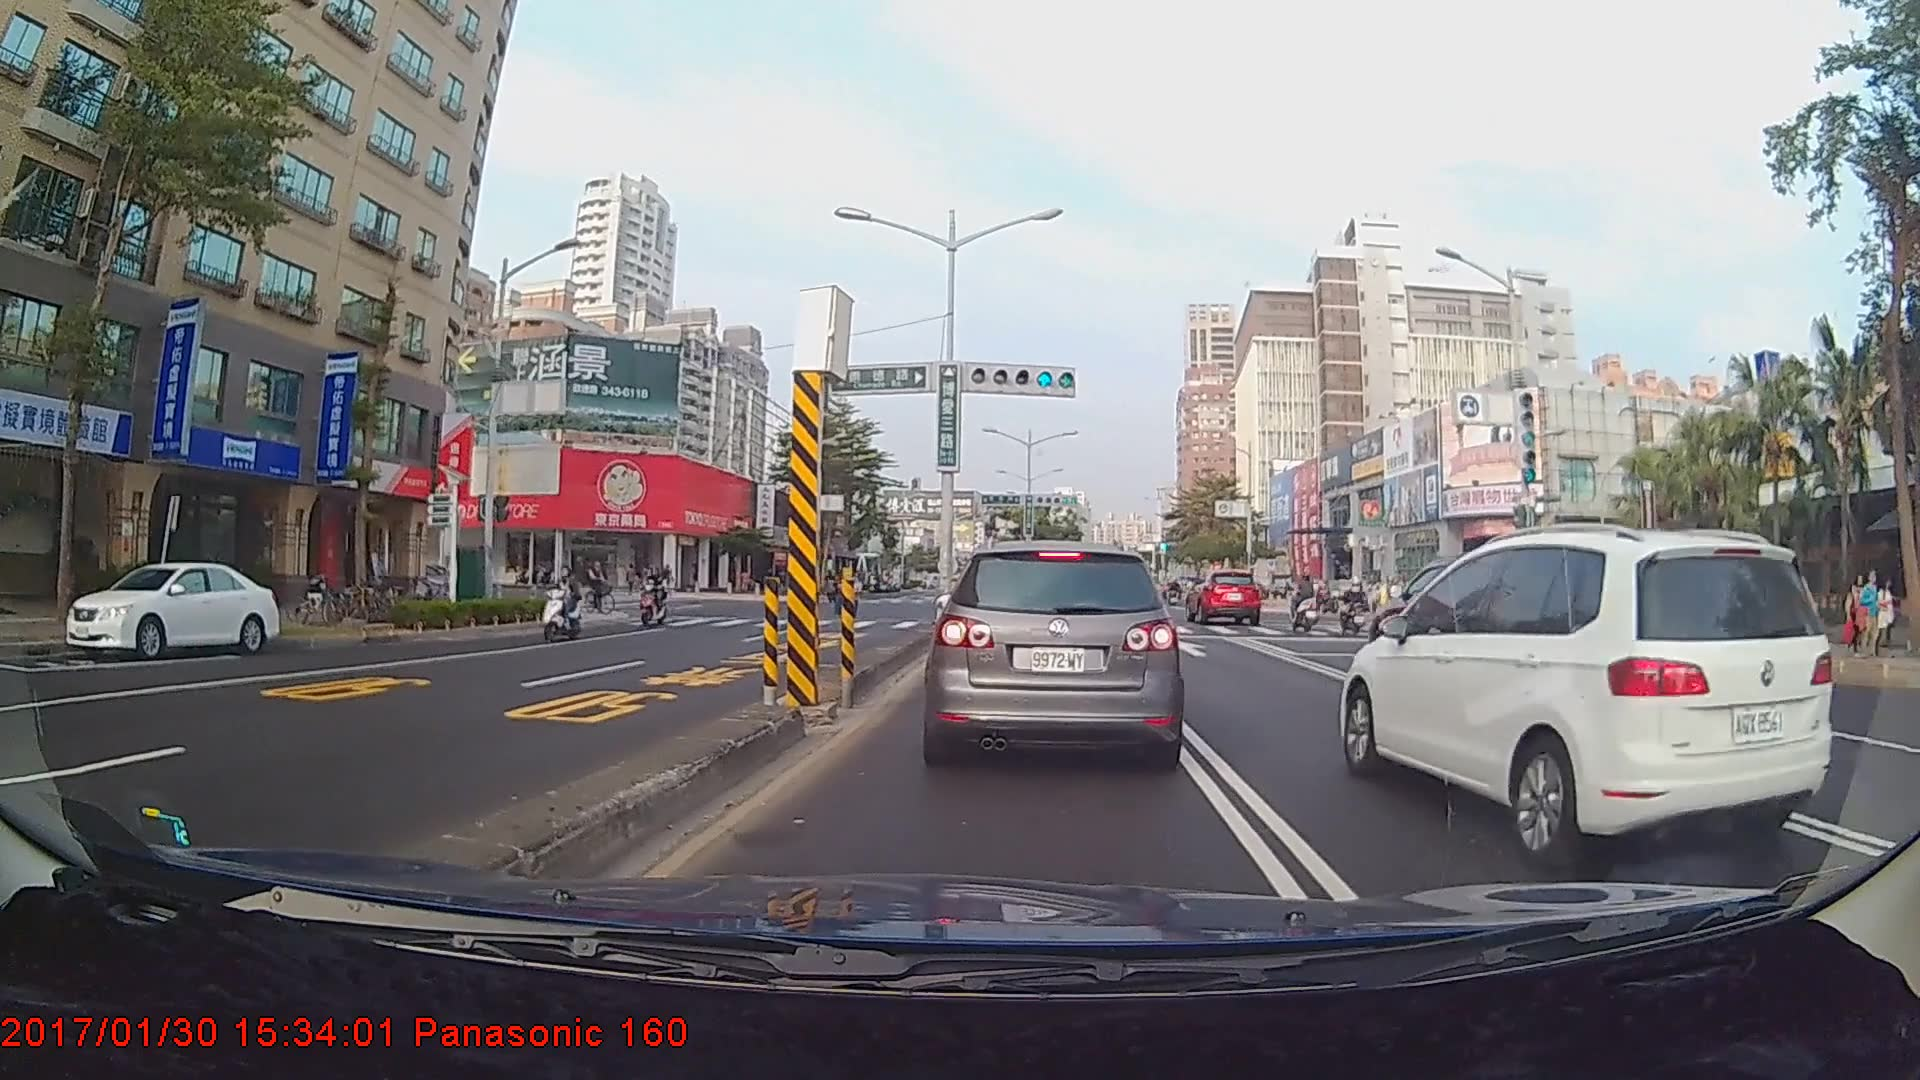pedestrian: (1855, 572, 1884, 662), (1845, 575, 1873, 658), (1874, 574, 1898, 658)
rider: (534, 561, 592, 647), (1331, 574, 1380, 633), (1284, 570, 1330, 628), (640, 568, 675, 630), (585, 555, 618, 621)
vehicle: (1336, 521, 1835, 868), (928, 539, 1184, 765), (67, 558, 275, 661), (1185, 568, 1262, 625)
